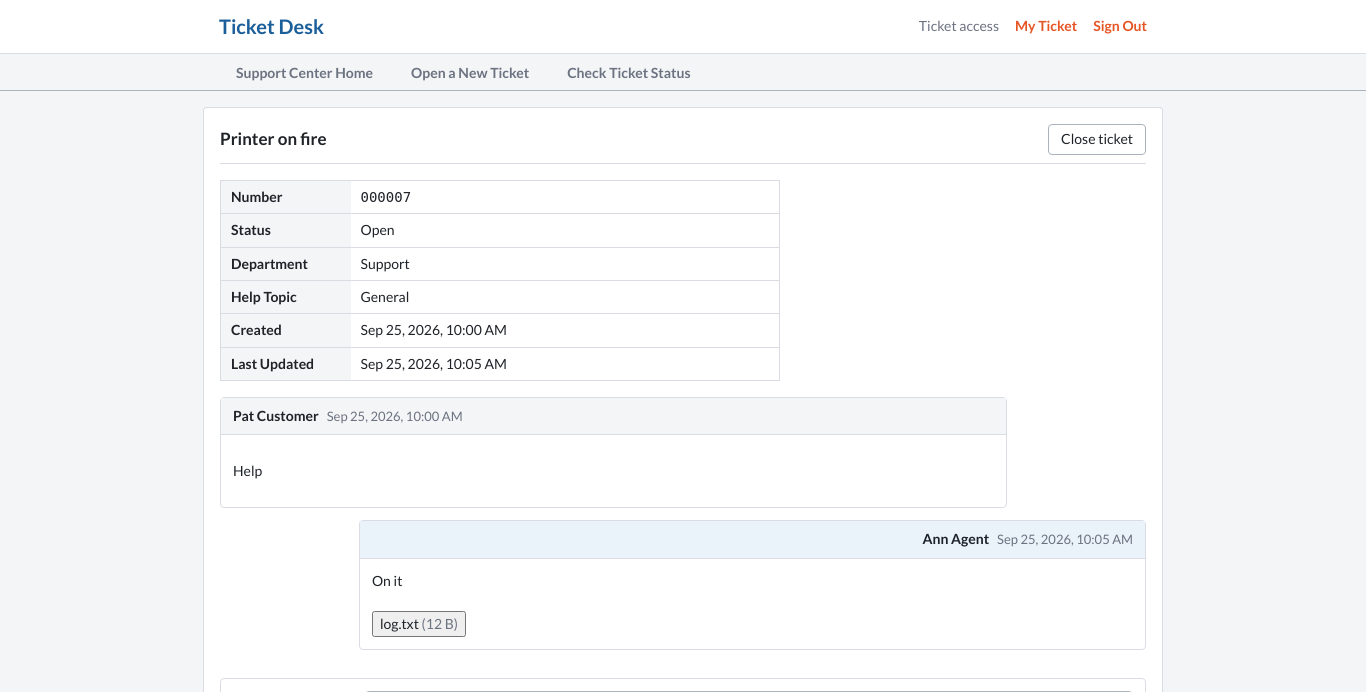
Test: a close on a ticket that has gone sends a guest to the portal home
The width and height of the screenshot is (1366, 692).
Click the button "Close ticket": point(1097, 140) [1048,124,1146,155]
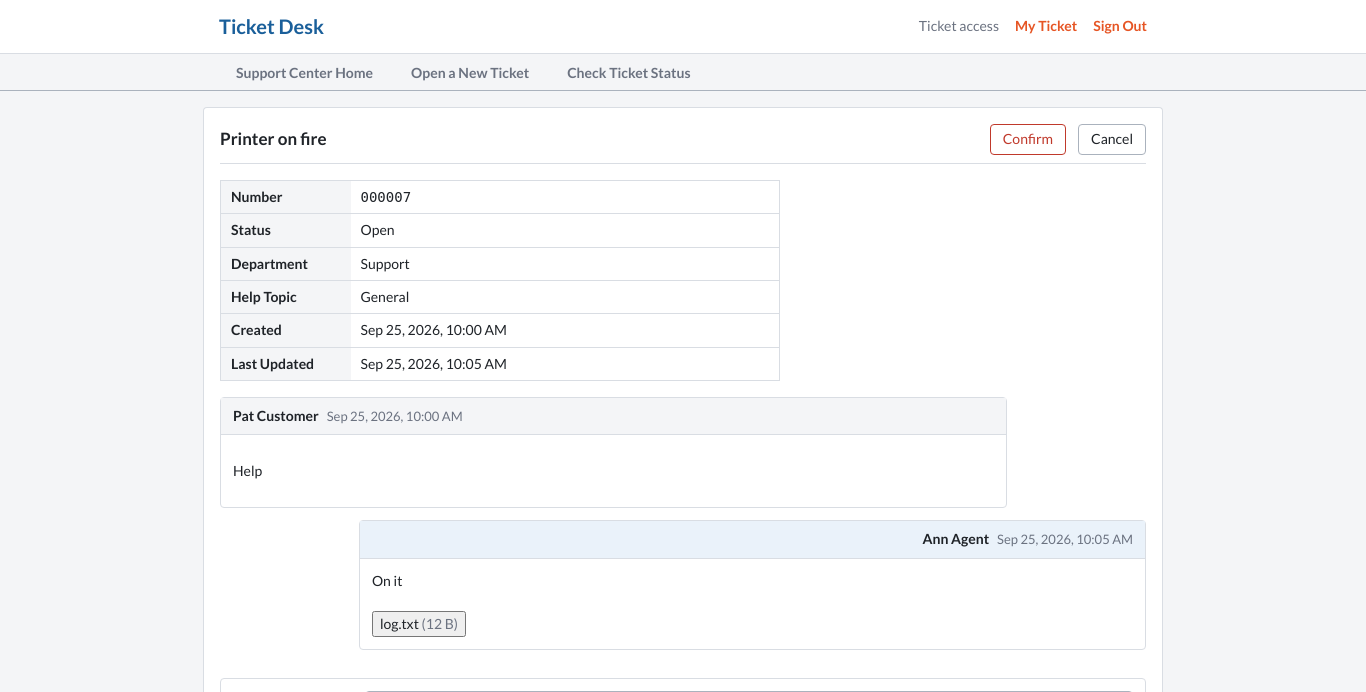
Click the button "Confirm": point(1028, 140) [990,124,1066,155]
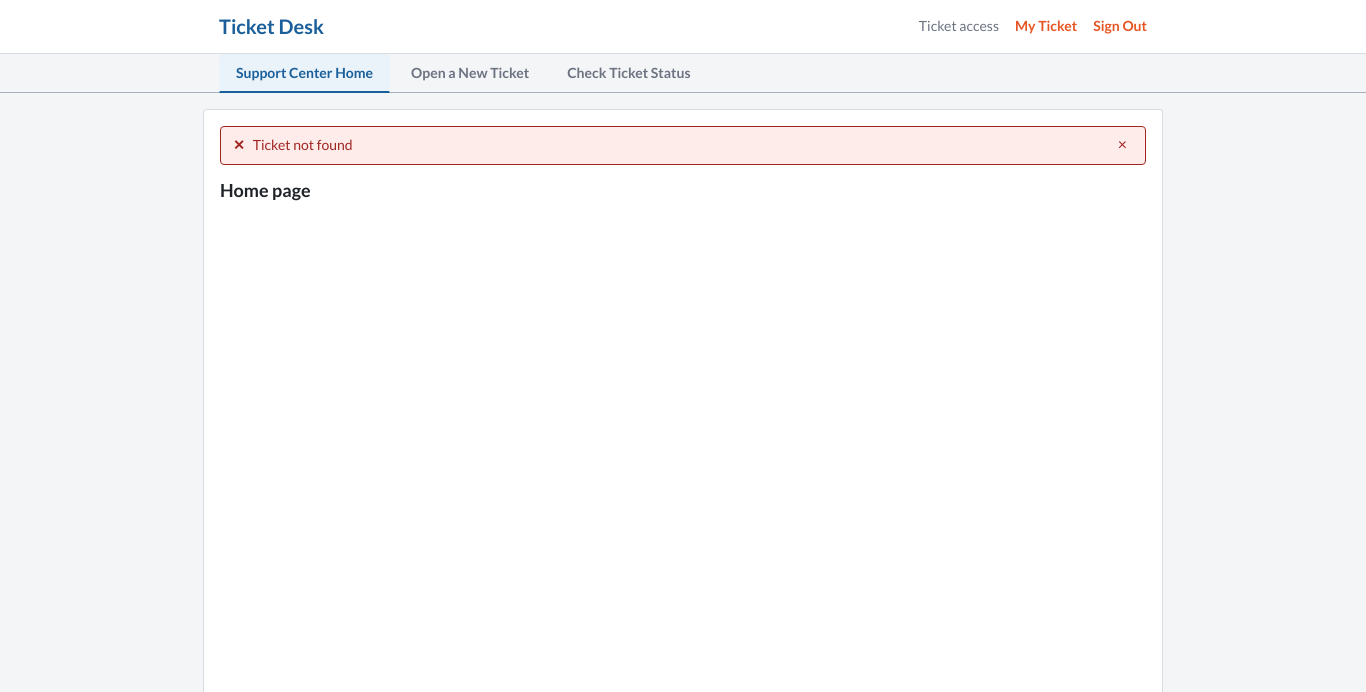
Result: the heading "Home page" is shown at [220,179,311,201]
Result: the message shows "Ticket not found" at [253,136,353,153]
